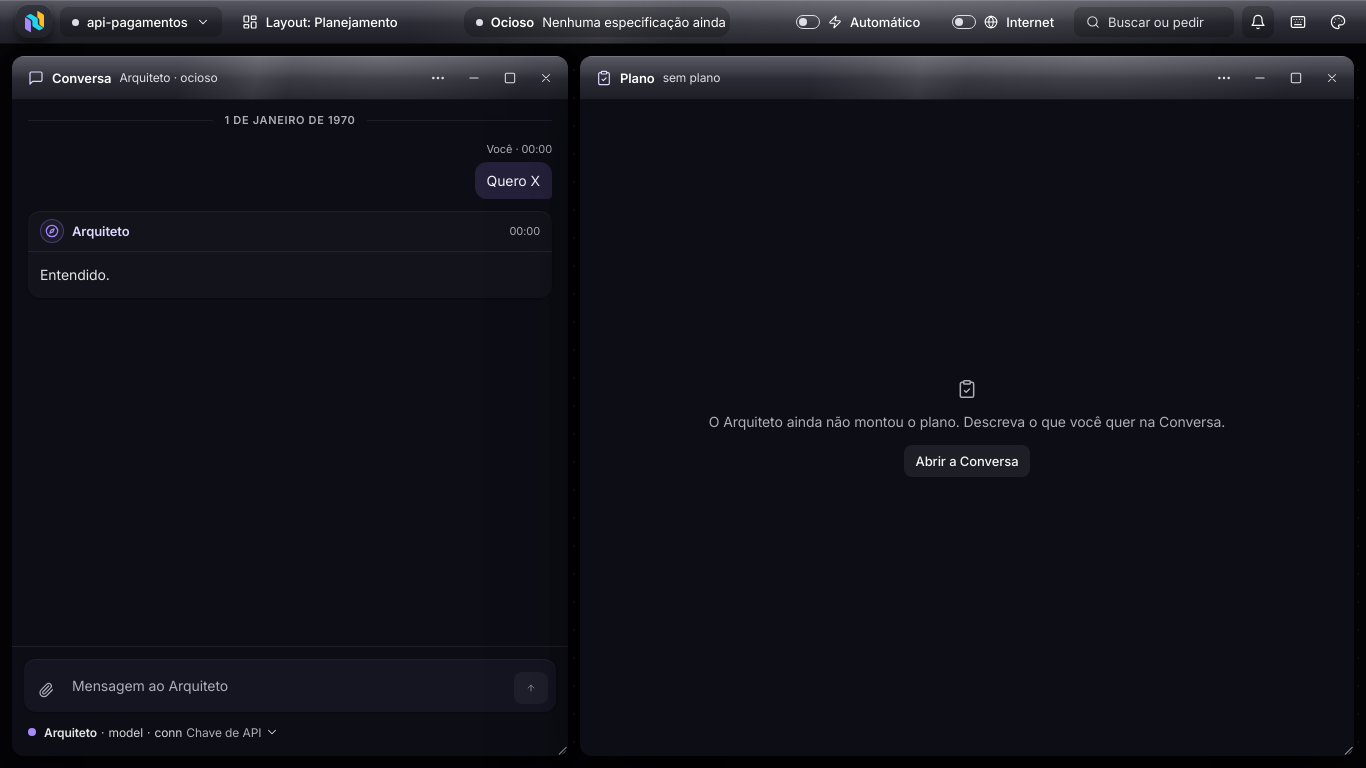
Scenario: histórico do chat ao abrir o espaço › resposta NOVA igual à última do histórico (outro turn_id) aparece: nada é suprimido por texto
Type "ok" into the text box named "Mensagem para o Arquiteto" at (287, 686), box [68, 667, 506, 704]
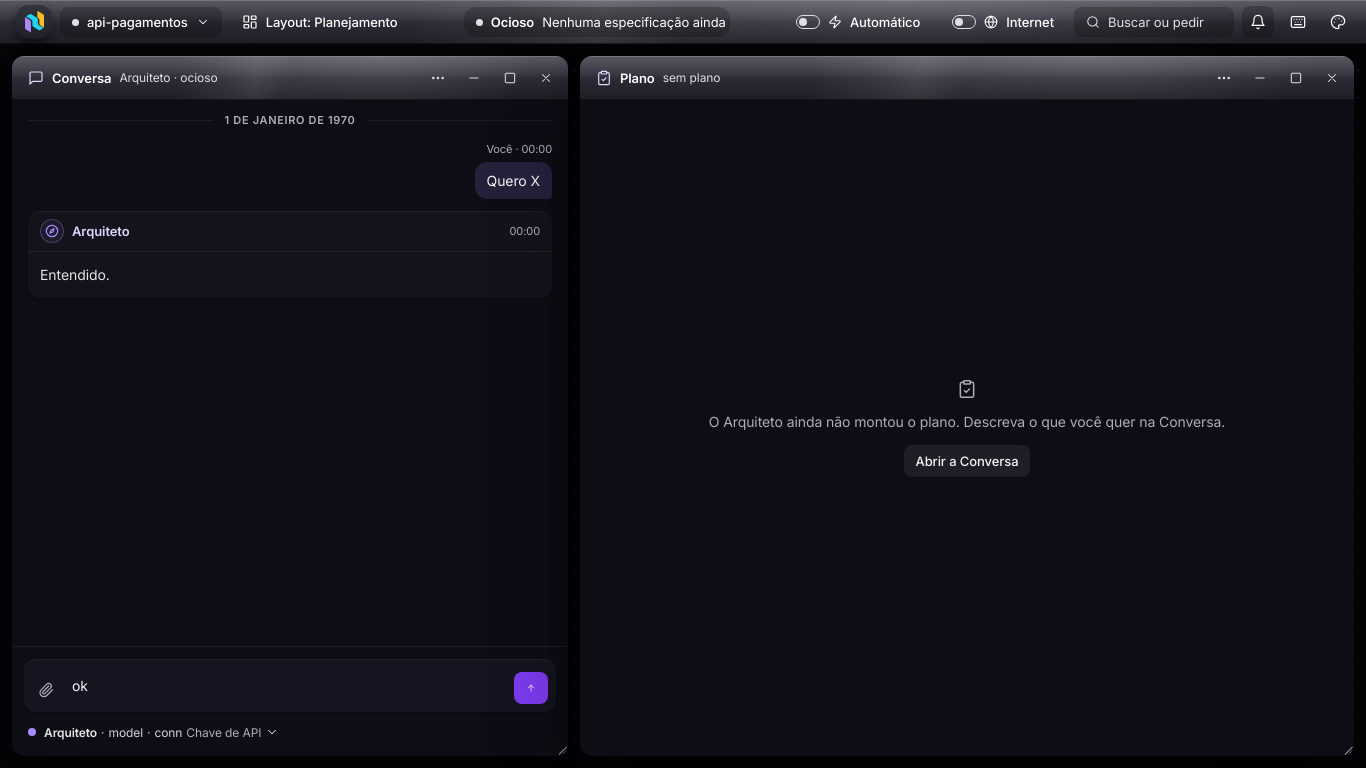
Press Enter in the text box named "Mensagem para o Arquiteto", box [68, 667, 506, 704]
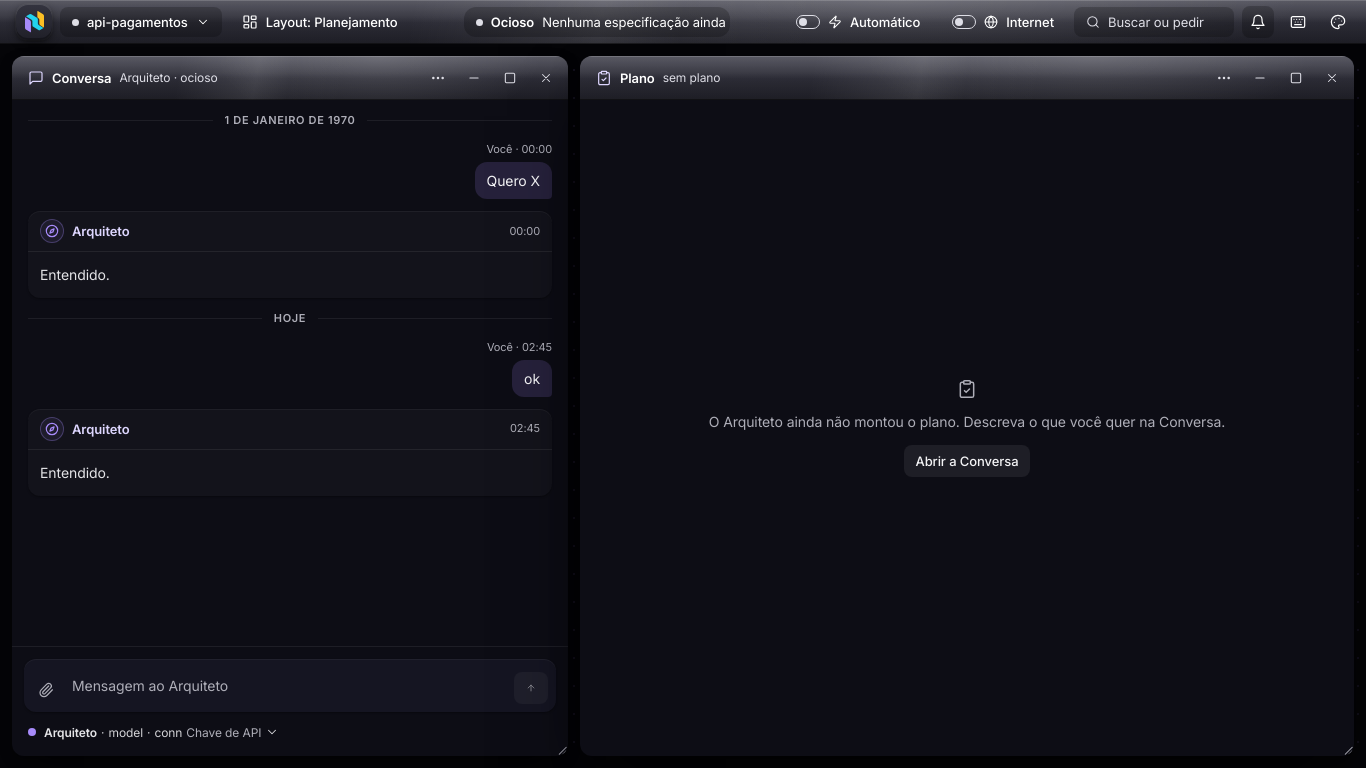
Expected: the text "Entendido." is shown 2 times, [40, 266, 110, 283]; [40, 464, 110, 481]
